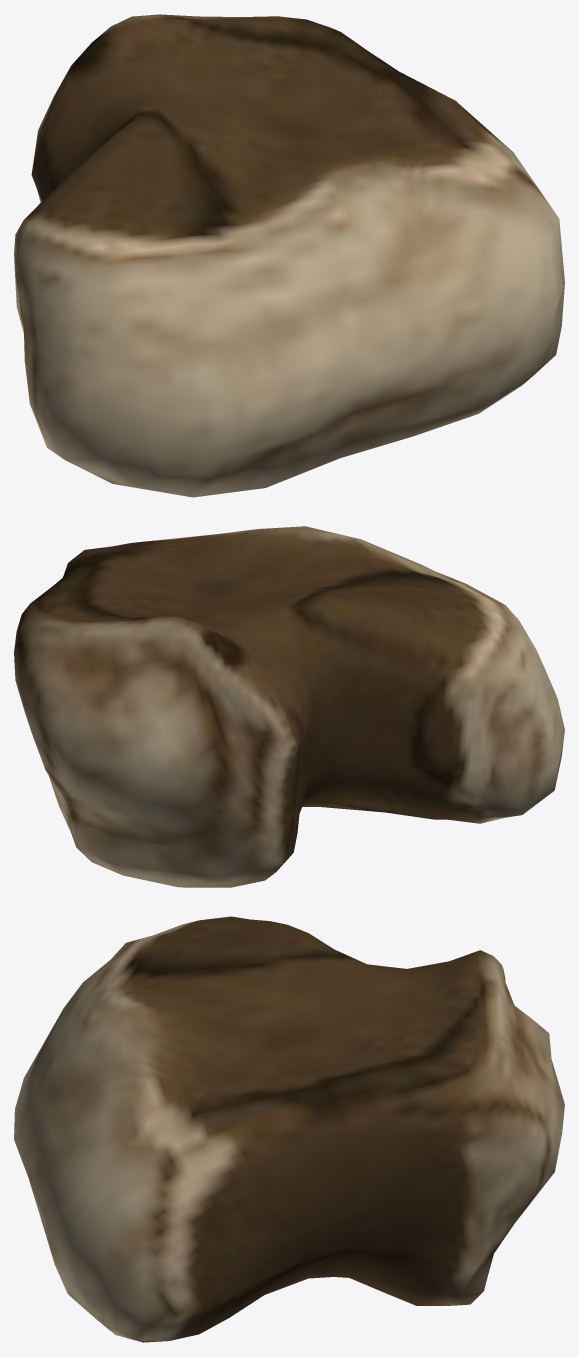
Rendered from Third_Carpal.glb.
3 renders of one model, top to bottom at view 1: azimuth 30°, elevation 25°; view 2: azimuth 150°, elevation 25°; view 3: azimuth 270°, elevation 25°, orthographic. The views are drawn at different scales.
Visible parts, largest first — view 1: L_Frt_Third_Carpal; view 2: L_Frt_Third_Carpal; view 3: L_Frt_Third_Carpal.
Boxes of the visible parts, x1,y1,x2,y2 form: L_Frt_Third_Carpal: (14, 14, 564, 497); L_Frt_Third_Carpal: (14, 526, 564, 887); L_Frt_Third_Carpal: (14, 916, 564, 1342).
Size of the model in its own units: 0.0463 by 0.027 by 0.0435.
Materials: 1 (1 with a texture image).
